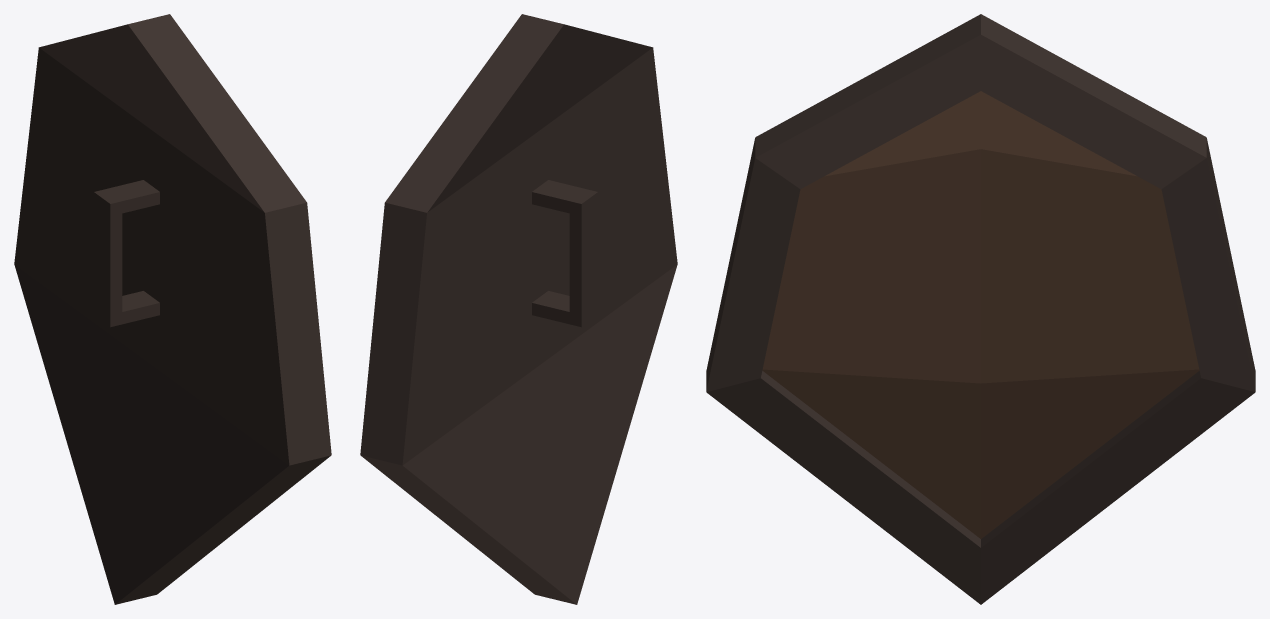
The model's file is wood_shield.glb.
3 renders of one model, left to right at view 1: azimuth 30°, elevation 25°; view 2: azimuth 150°, elevation 25°; view 3: azimuth 270°, elevation 25°, orthographic.
Parts seen in each view (by area): view 1: Cube; view 2: Cube; view 3: Cube.
Part boxes in pixels (x1,y1,x2,y2): Cube: (14, 14, 331, 604); Cube: (360, 14, 677, 604); Cube: (706, 14, 1255, 604).
Bounding box in the file's own units: 0.3896 × 2.21 × 1.91.
